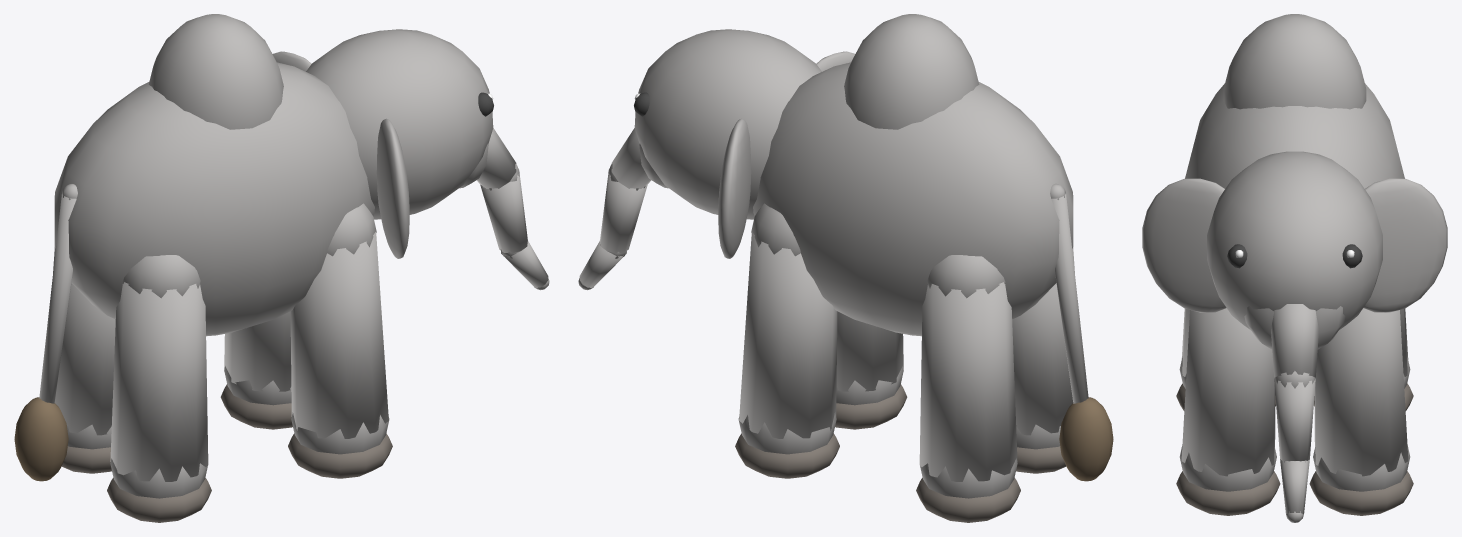
The model's file is asian-elephant.glb.
3 views of the same model, side by side, from view 1: azimuth 30°, elevation 25°; view 2: azimuth 150°, elevation 25°; view 3: azimuth 270°, elevation 25° (orthographic).
Visible parts, largest first — view 1: e, e.014, e.007, e.001, e.010, e.028, e.004, e.022; view 2: e, e.014, e.010, e.004, e.007, e.028, e.001, e.022; view 3: e.014, e, e.004, e.001, e.022, e.007, e.010.
Boxes of the visible parts, left/top/right/bottom form: e: left=54, top=14, right=374, bottom=336; e.014: left=272, top=29, right=493, bottom=258; e.007: left=107, top=255, right=211, bottom=522; e.001: left=288, top=203, right=392, bottom=478; e.010: left=53, top=247, right=115, bottom=473; e.028: left=14, top=184, right=77, bottom=481; e.004: left=220, top=311, right=292, bottom=429; e.022: left=476, top=128, right=549, bottom=290; e: left=753, top=14, right=1073, bottom=336; e.014: left=634, top=29, right=855, bottom=258; e.010: left=916, top=255, right=1020, bottom=522; e.004: left=735, top=203, right=839, bottom=478; e.007: left=1012, top=247, right=1074, bottom=473; e.028: left=1050, top=184, right=1113, bottom=481; e.001: left=835, top=311, right=907, bottom=429; e.022: left=578, top=128, right=651, bottom=290; e.014: left=1142, top=151, right=1447, bottom=349; e: left=1185, top=14, right=1404, bottom=188; e.004: left=1309, top=308, right=1413, bottom=515; e.001: left=1176, top=308, right=1280, bottom=515; e.022: left=1271, top=304, right=1318, bottom=522; e.007: left=1176, top=308, right=1276, bottom=410; e.010: left=1313, top=308, right=1413, bottom=410.
Bounding box in the file's own units: 2.52 × 2.03 × 1.26.
